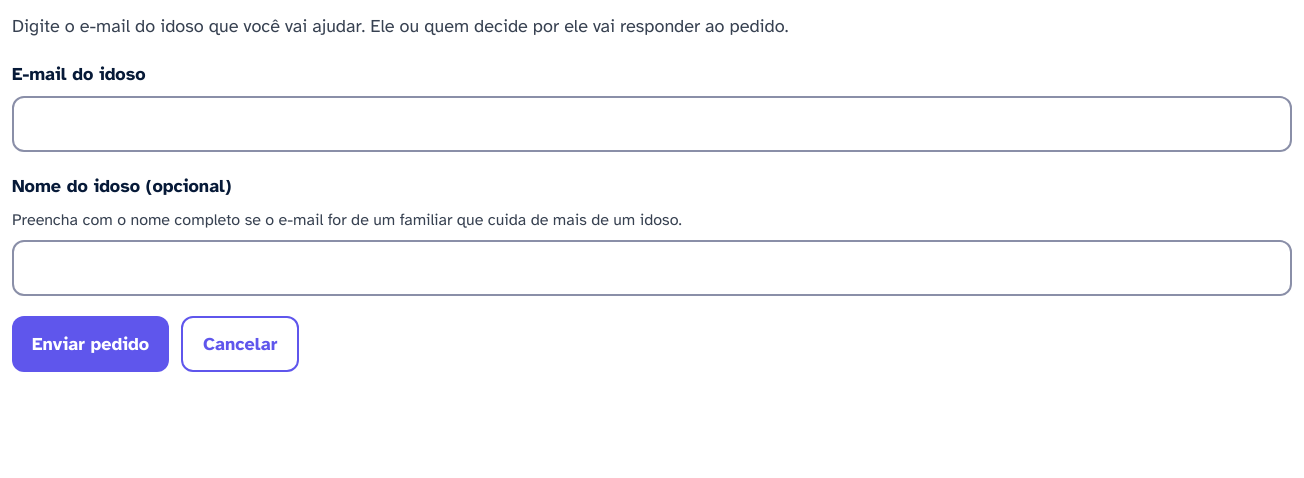
Test case: SolicitarVinculo › e-mail inválido (sem-arroba) não envia e explica
In the field labelled "E-mail do idoso": {"x": 652, "y": 124} [12,96,1292,152], type "sem-arroba"
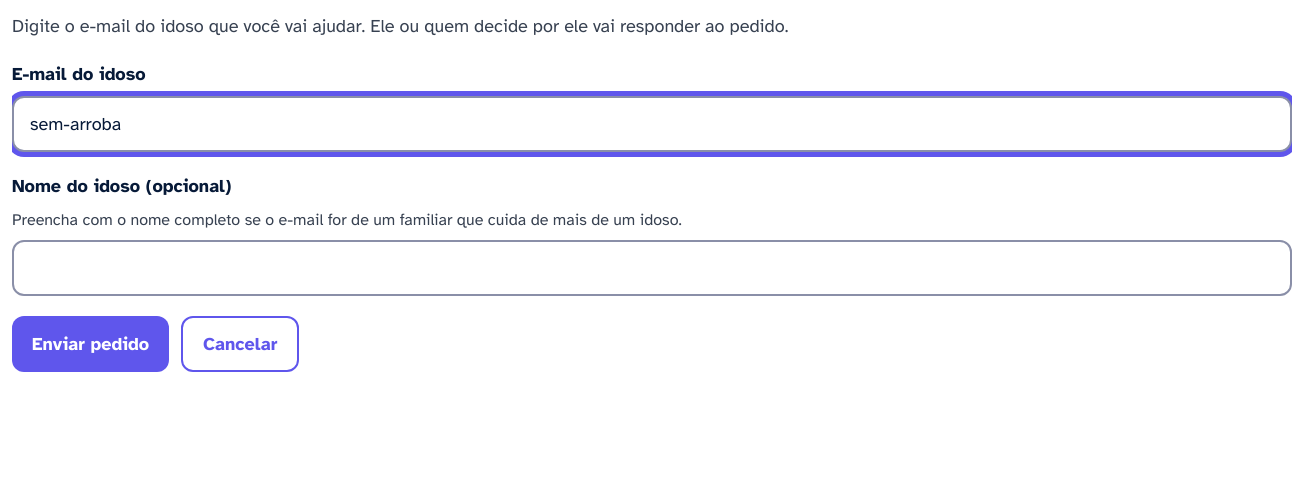
Click the button "Enviar pedido": {"x": 90, "y": 344} [12,316,169,372]
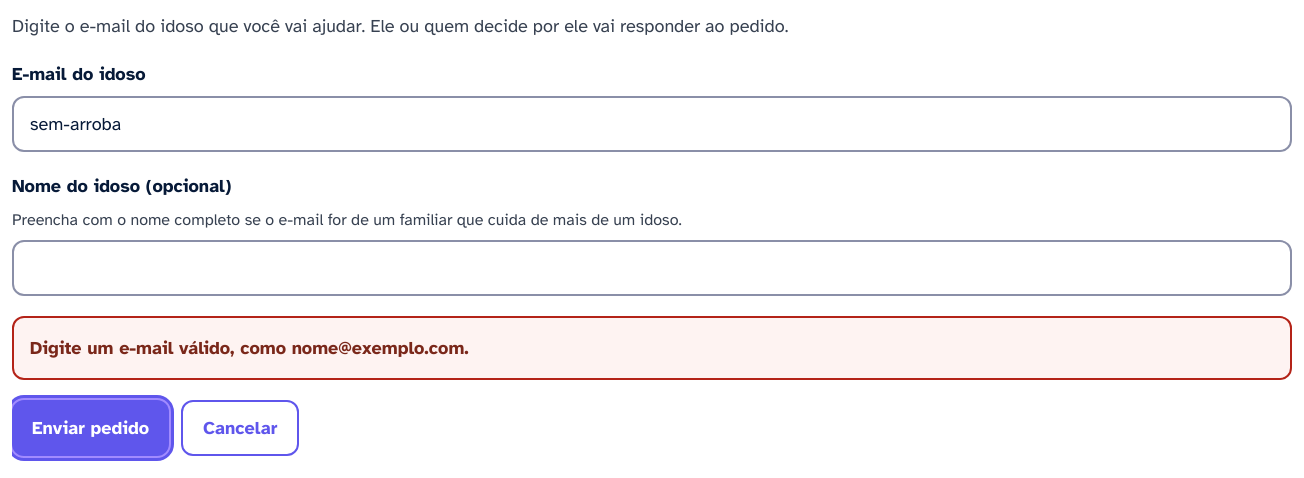
Expected: the message reads "Digite um e-mail válido, como nome@exemplo.com.", [30,337,469,359]
